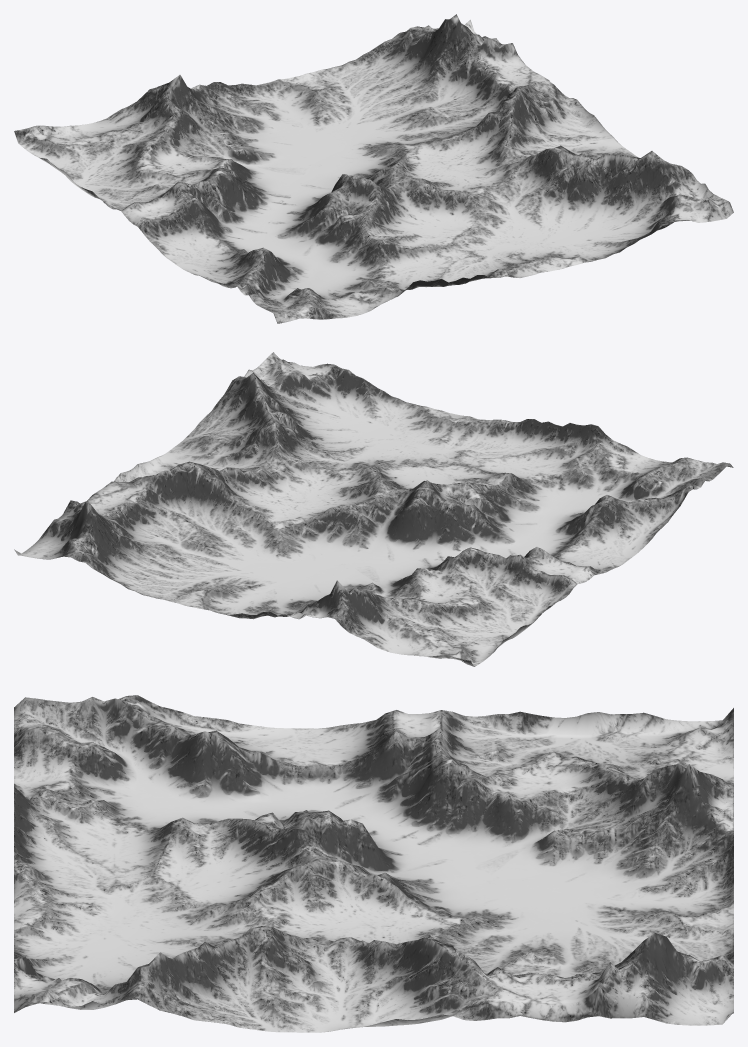
Rendered from ground.obj.
3 views of the same model, one above another, from view 1: azimuth 30°, elevation 25°; view 2: azimuth 150°, elevation 25°; view 3: azimuth 270°, elevation 25° (orthographic). The views are drawn at different scales.
Parts seen in each view (by area): view 1: Plane_Plane.001; view 2: Plane_Plane.001; view 3: Plane_Plane.001.
Boxes of the visible parts, x1,y1,x2,y2 form: Plane_Plane.001: (14, 14, 733, 323); Plane_Plane.001: (14, 352, 733, 666); Plane_Plane.001: (14, 695, 733, 1032).
Size of the model in its own units: 4971 by 616 by 4971.
1 material, 1 textured.
